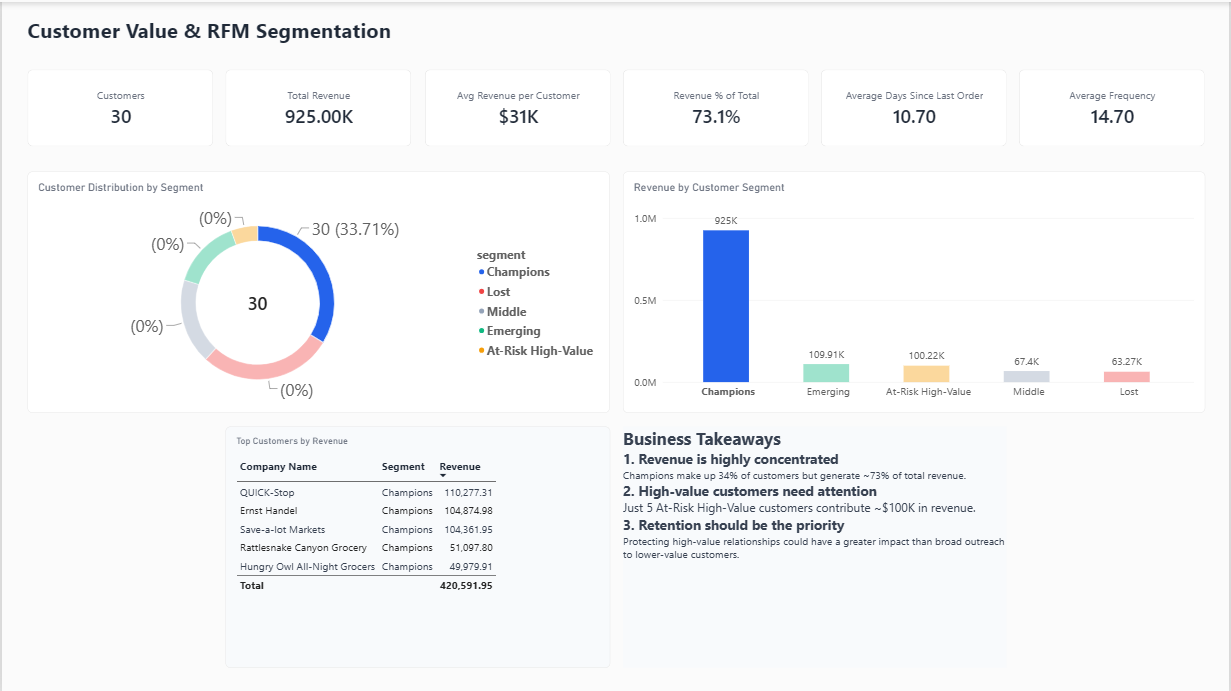

The dashboard page shown, as its layout file describes it:
{"tool":"powerbi","page":{"name":"Page 1","canvas":[1920,1080],"ordinal":0},"visuals":[{"type":"donutChart","title":"Customer Distribution by Segment","fields":{"Category":["public rfm_analysis.segment"],"Y":["CountNonNull(public rfm_analysis.segment)"]},"box":[40,265,910,377.5],"z":0},{"type":"cardVisual","fields":{"Data":["public rfm_analysis.Total Revenue1"]},"box":[350,105,290,120],"z":2},{"type":"cardVisual","fields":{"Data":["public rfm_analysis.Customers"]},"box":[40,105,290,120],"z":3},{"type":"cardVisual","fields":{"Data":["public rfm_analysis.Avg Revenue per Customer"]},"box":[660,105,290,120],"z":4},{"type":"cardVisual","fields":{"Data":["public rfm_analysis.Revenue % of Total"]},"box":[970,105,290,120],"z":6},{"type":"columnChart","title":"Revenue by Customer Segment","fields":{"Category":["public rfm_analysis.segment"],"Y":["public rfm_analysis.Total Revenue"]},"box":[970,265,910,377.5],"z":7},{"type":"cardVisual","fields":{"Data":["public rfm_analysis.Median Days Since Last Order"]},"box":[1280,105,290,120],"z":8},{"type":"cardVisual","fields":{"Data":["public rfm_analysis.Average Order Duration"]},"box":[1590,105,290,120],"z":9},{"type":"tableEx","title":"Top Customers by Revenue","fields":{"Values":["public rfm_analysis.company_name","public rfm_analysis.segment","public rfm_analysis.Total Revenue"]},"box":[349.6,663.2,601.3,377.5],"z":10},{"type":"textbox","box":[40,20,600,65],"z":11},{"type":"textbox","box":[970.8,663.2,599.3,377.5],"z":12}]}

Visuals, with their boxes in screenshot pixels (x1, y1, x2, y2), scaled from the page's 1920x1080 canvas onto the 1231x691 screenshot:
"Customer Distribution by Segment" donutChart: (26, 170, 609, 411)
cardVisual - public rfm_analysis.Total Revenue1: (224, 67, 410, 144)
cardVisual - public rfm_analysis.Customers: (26, 67, 212, 144)
cardVisual - public rfm_analysis.Avg Revenue per Customer: (423, 67, 609, 144)
cardVisual - public rfm_analysis.Revenue % of Total: (622, 67, 808, 144)
"Revenue by Customer Segment" columnChart: (622, 170, 1205, 411)
cardVisual - public rfm_analysis.Median Days Since Last Order: (821, 67, 1007, 144)
cardVisual - public rfm_analysis.Average Order Duration: (1019, 67, 1205, 144)
"Top Customers by Revenue" tableEx: (224, 424, 610, 666)
textbox: (26, 13, 410, 54)
textbox: (622, 424, 1007, 666)
